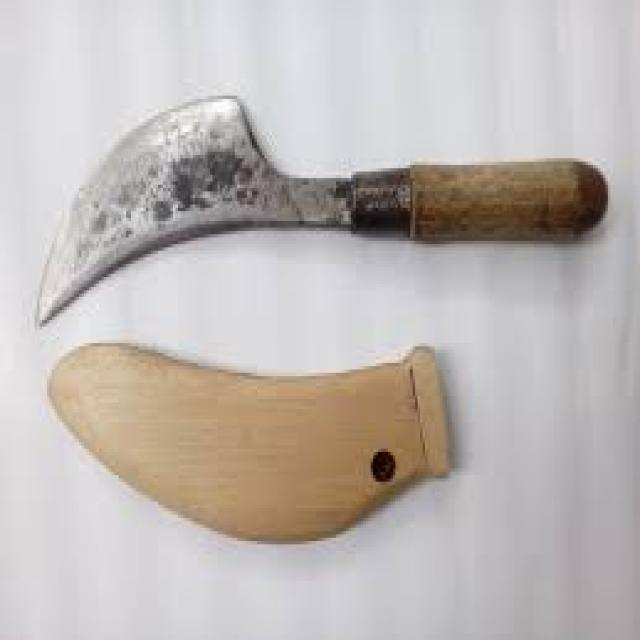Knife: (30, 30, 617, 349)
